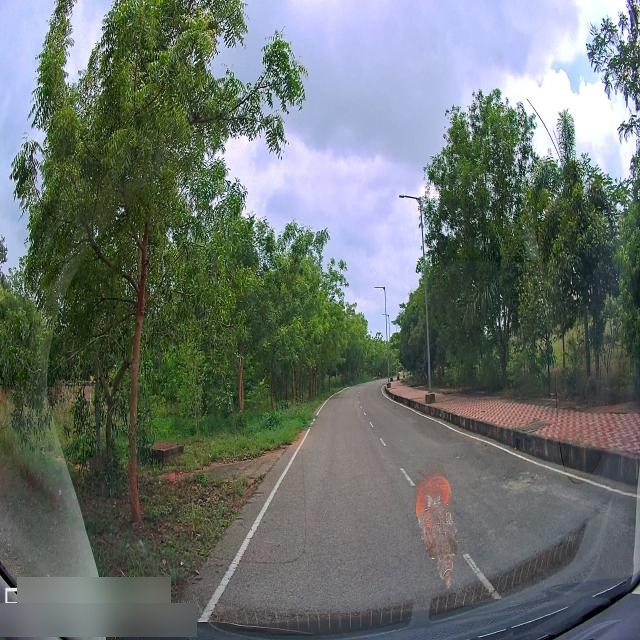pothole: (502, 469, 534, 500)
